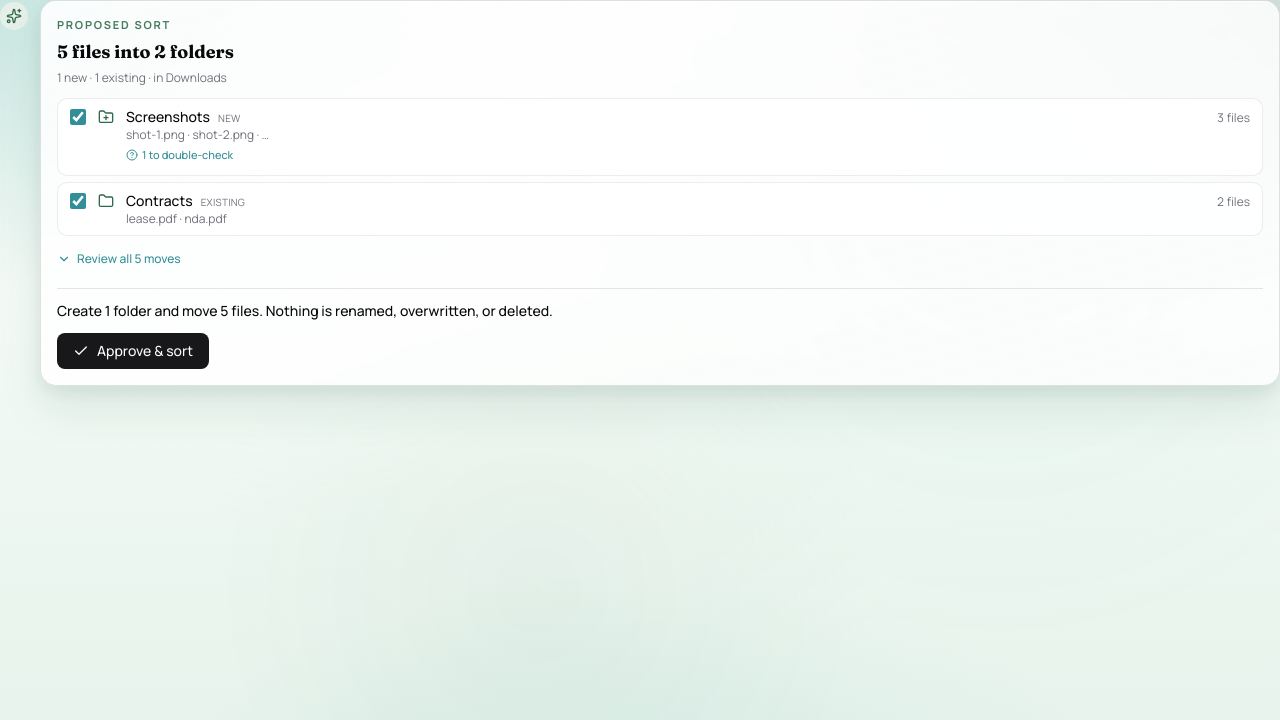
PlanCard full review + exclusions (S4) › progressively discloses the complete move set behind the expand control
Expected: the text "shot-3.png" is not shown
Click the button "Review all 5 moves" at (119, 259), box 57,251 -> 181,267
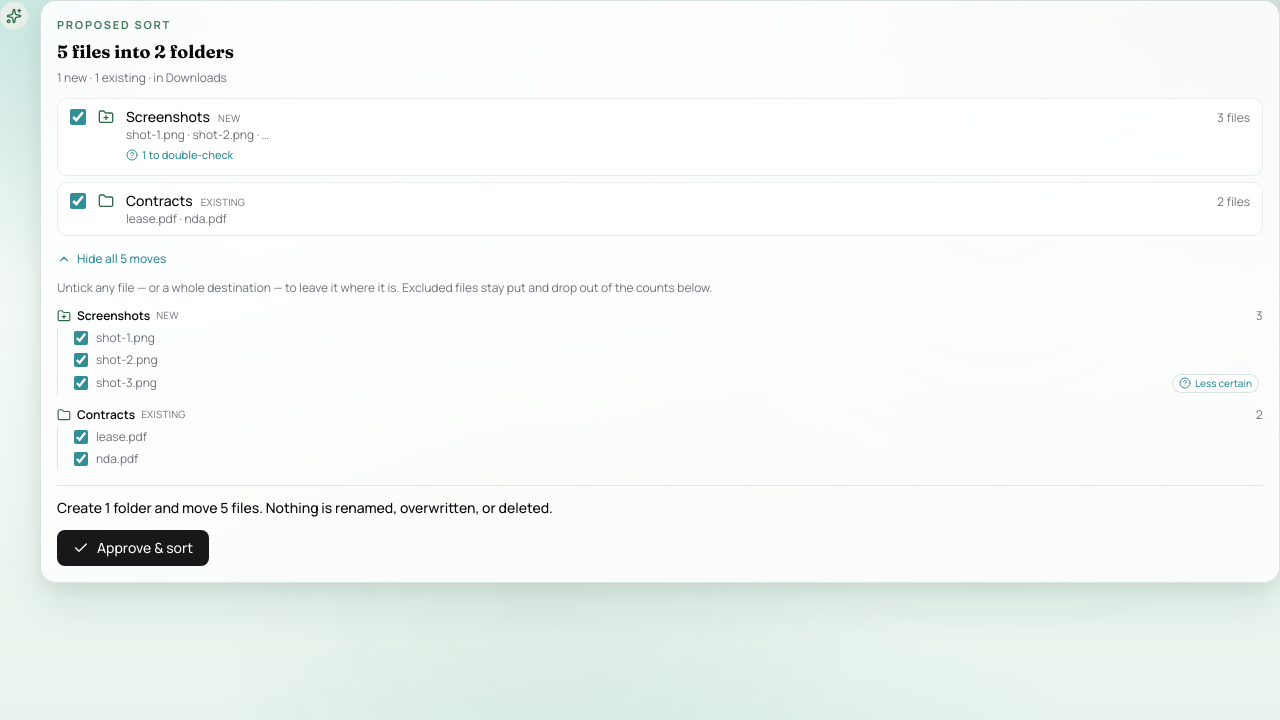
Now the text "shot-1.png" is shown, box 96,329 -> 155,346
Now the text "shot-2.png" is shown, box 96,351 -> 158,368
Now the text "shot-3.png" is shown, box 96,374 -> 157,392
